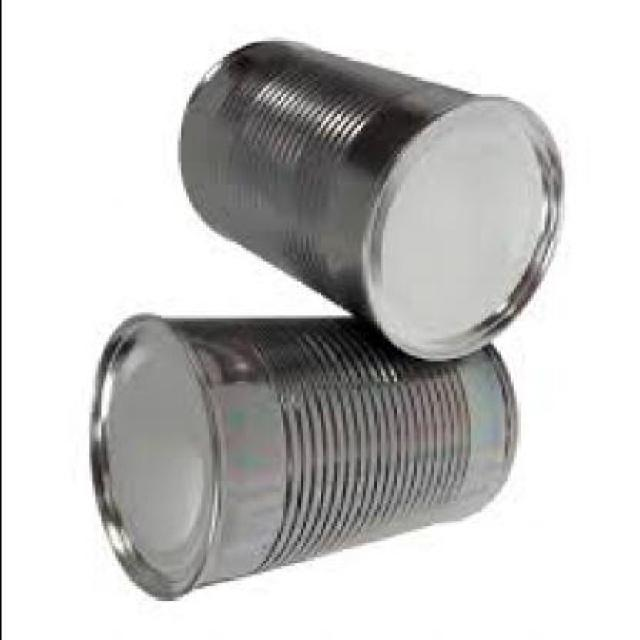METAL: (170, 38, 558, 367), (88, 316, 512, 602)
